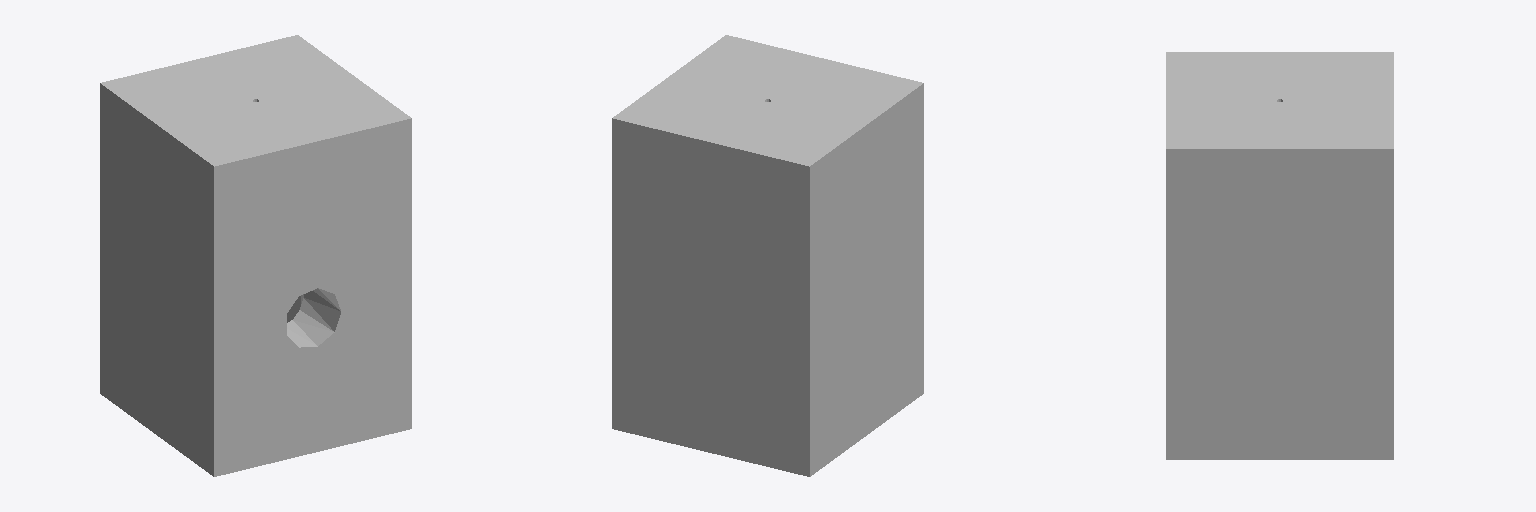
Rendered from fiberblås4.0.obj.
3 renders of one model, left to right at view 1: azimuth 30°, elevation 25°; view 2: azimuth 150°, elevation 25°; view 3: azimuth 270°, elevation 25°, orthographic.
Visible parts, largest first — view 1: Solid1; view 2: Solid1; view 3: Solid1.
Part boxes in pixels (bbox=[...]): Solid1: bbox=[100, 35, 411, 476]; Solid1: bbox=[612, 35, 923, 476]; Solid1: bbox=[1166, 52, 1393, 459].
Bounding box in the file's own units: 40 × 60 × 40.